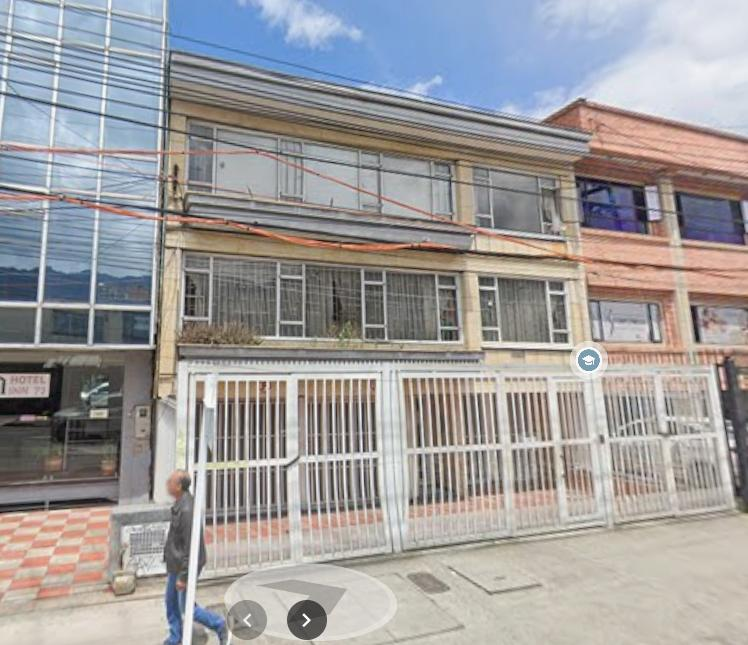casa: (107, 52, 734, 589), (0, 0, 168, 499), (544, 99, 747, 367)
